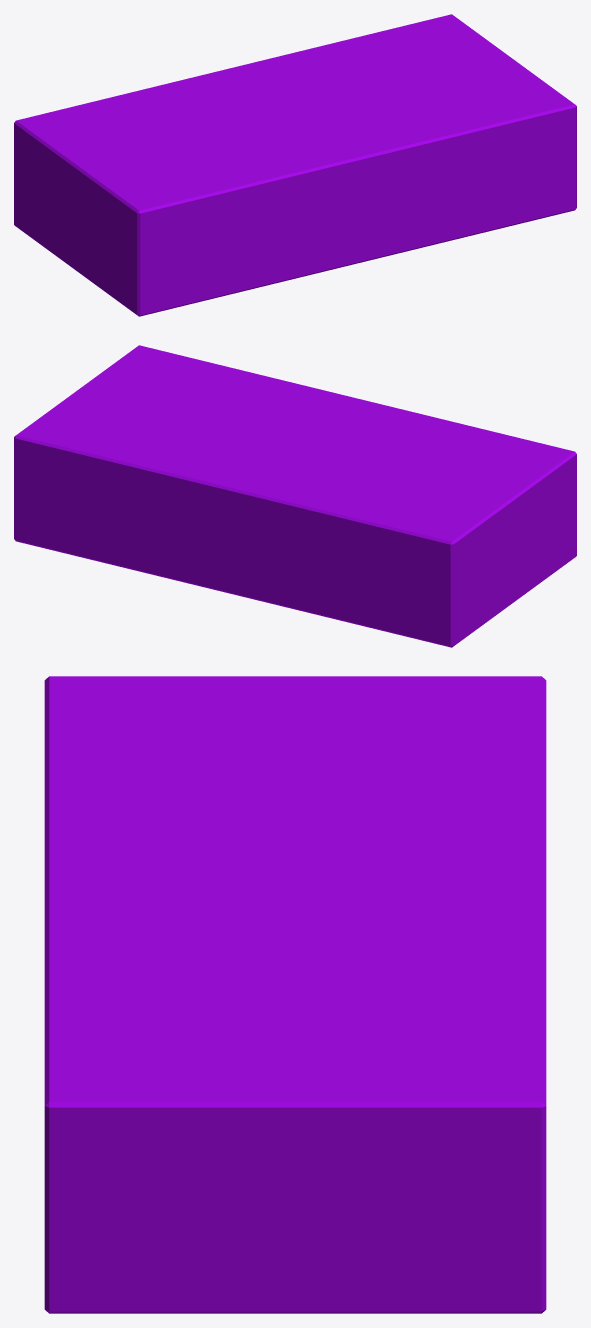
File: Modular_Simple_03.fbx
3 renders of one model, top to bottom at view 1: azimuth 30°, elevation 25°; view 2: azimuth 150°, elevation 25°; view 3: azimuth 270°, elevation 25°, orthographic. The views are drawn at different scales.
Visible parts, largest first — view 1: Modular_Simple_03; view 2: Modular_Simple_03; view 3: Modular_Simple_03.
Part boxes in pixels (x1=…): Modular_Simple_03: x1=14, y1=14, x2=576, y2=316; Modular_Simple_03: x1=14, y1=345, x2=576, y2=647; Modular_Simple_03: x1=44, y1=676, x2=546, y2=1313.
Bounding box in the file's own units: 71.53 × 16.48 × 35.33.
